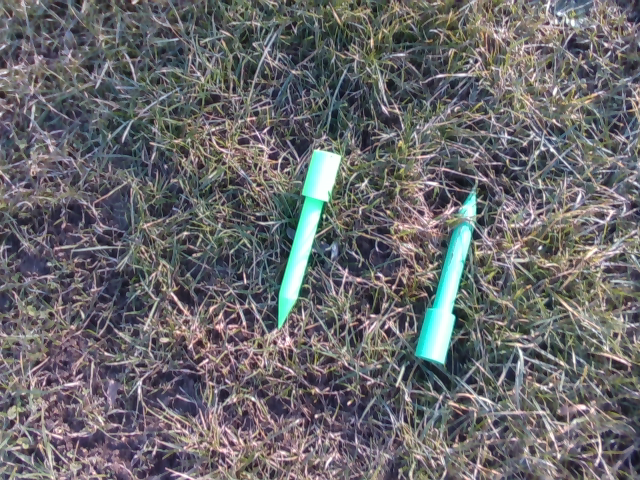Probe: (270, 143, 347, 336), (410, 184, 485, 364)
